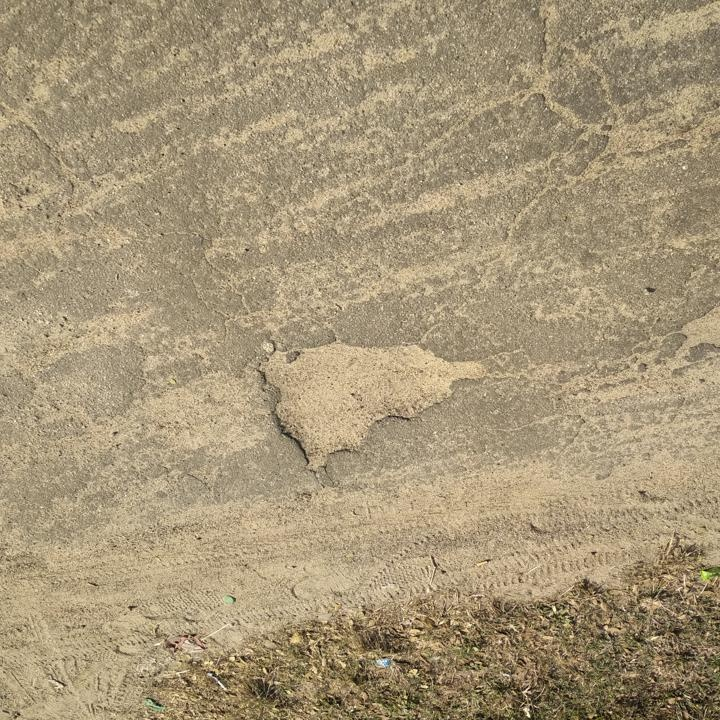pothole: (252, 334, 489, 479)
